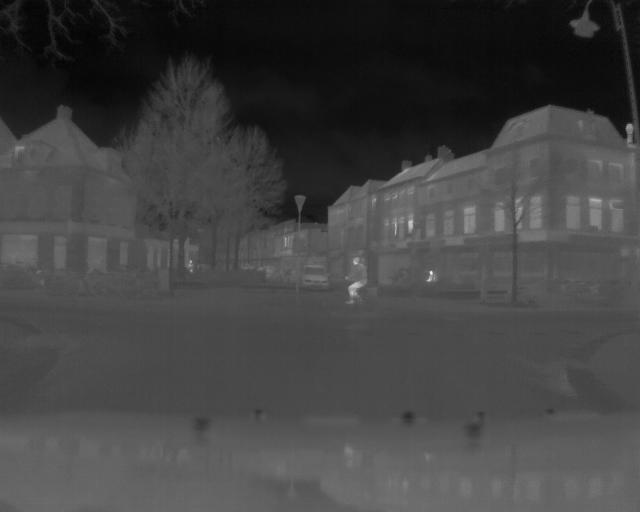person: (345, 254, 369, 303)
